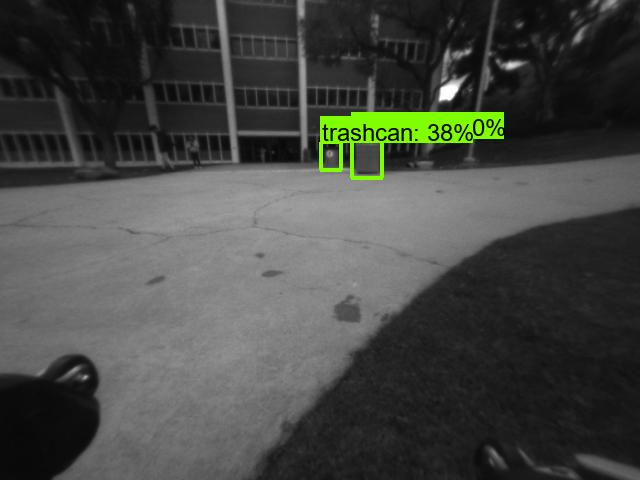trashcan: (354, 139, 381, 175), (323, 144, 338, 167)
